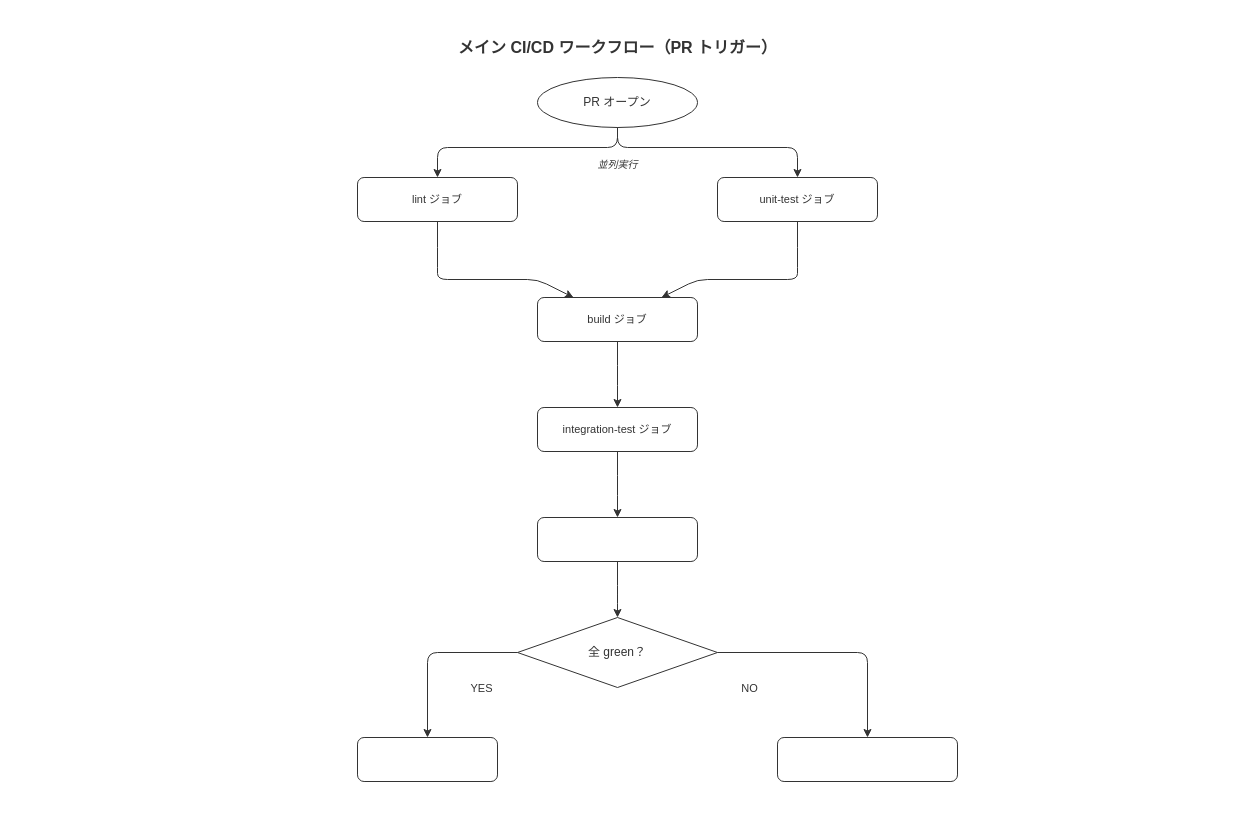
Image size: 1234x834. Some labels were removed from this diagram. The shapes that lost their labels are listed below. From the top down, each one's box as (x1, y1, x2, y2) in pixels, then its label:
(536, 516, 698, 562): security-scan ジョブ
(356, 736, 498, 782): PR ready
(776, 736, 958, 782): コメント通知 → 修正
